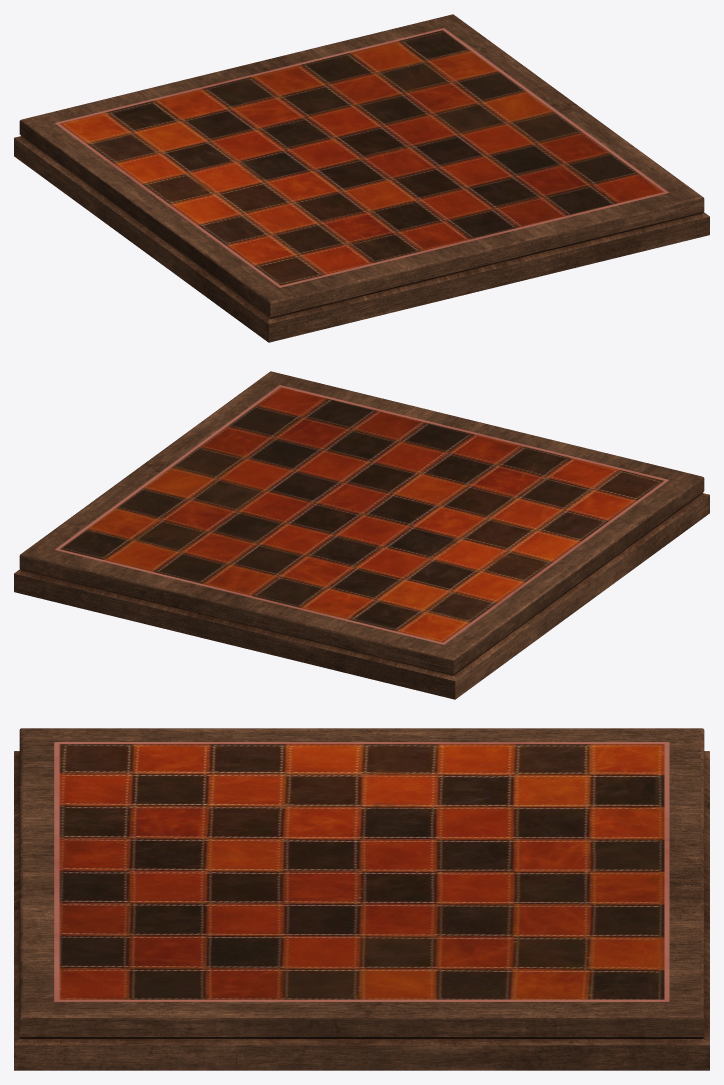
Rendered from Board and White Pieces.fbx.
3 renders of one model, top to bottom at view 1: azimuth 30°, elevation 25°; view 2: azimuth 150°, elevation 25°; view 3: azimuth 270°, elevation 25°, orthographic. The views are drawn at different scales.
Parts seen in each view (by area): view 1: ChessBoard; view 2: ChessBoard; view 3: ChessBoard.
Boxes of the visible parts, box(x1,y1,x2,y2) form: ChessBoard: box(14, 14, 709, 342); ChessBoard: box(14, 371, 709, 699); ChessBoard: box(14, 728, 709, 1070).
Bounding box in the file's own units: 236 × 19.3 × 236.
